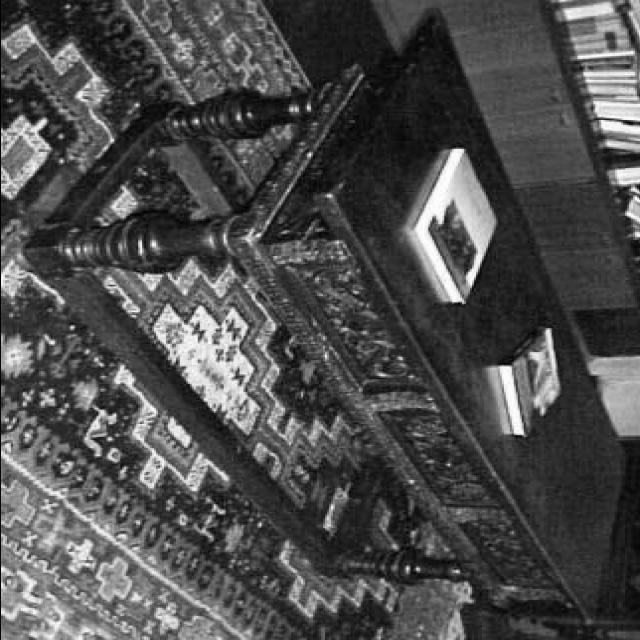table: (26, 11, 624, 630)
